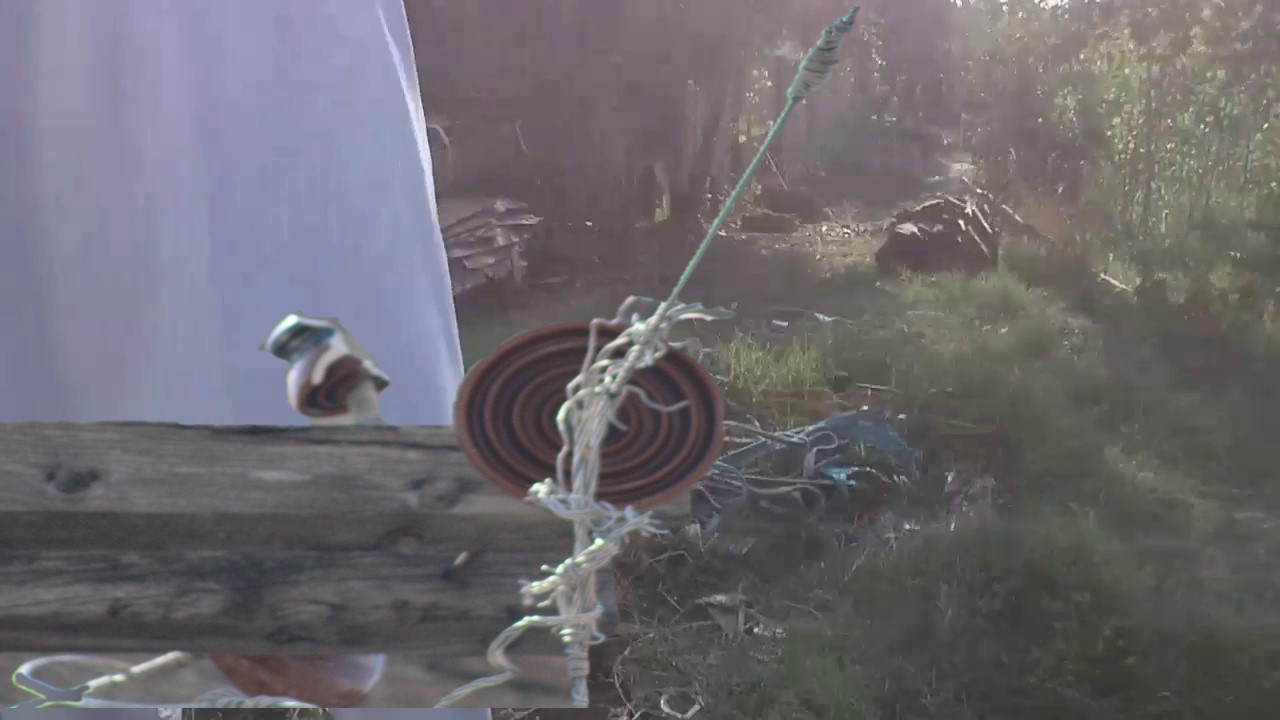defect_pin: (262, 307, 391, 422)
insulator_disc: (453, 314, 729, 518)
